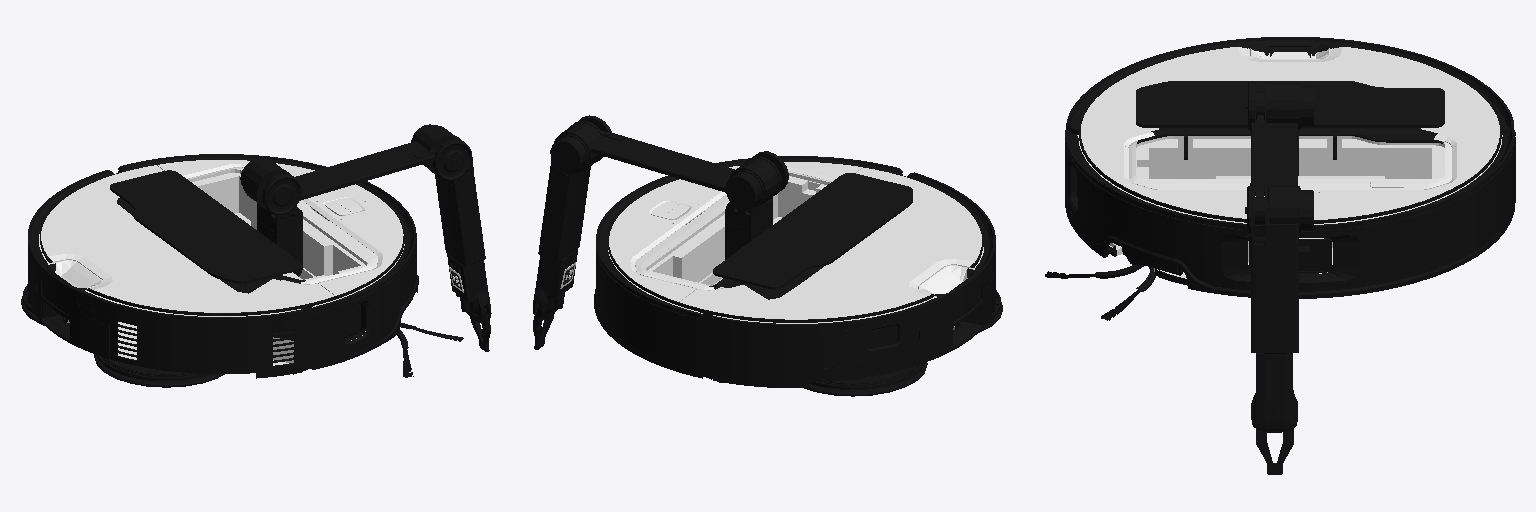
robot.urdf — z70:
<?xml version="1.0" ?>
<!-- =================================================================================== -->
<!-- |    This document was autogenerated by xacro from /Users/mpentax/Code/RRsZ70_ROS2/install/z70_description/share/z70_description/urdf/z70.urdf.xacro | -->
<!-- |    EDITING THIS FILE BY HAND IS NOT RECOMMENDED                                 | -->
<!-- =================================================================================== -->
<!--
  Roborock Saros Z70 - kinematic description.
  PROVISIONAL shared geometry: config/mount_calibration.yaml, 20261015.
  L2=0.205 and the vendor shoulder reference define a coordinate gauge, NOT measured wrist anatomy.
  M4 zero/physical L2 remain confounded with unknown marker mounts. Firmware FK stays in arm_model.py.
  Display assembly length follows rough owner tape; internal wrist/finger split and M6 remain provisional.
  M5 stays at the nominal gauge station; rolling visuals are translated back along the same x axis.

  URDF joint values (radians) from app angles (degrees), computed in z70_bridge:
    m3_joint = rad(M3 - 270)      link1 absolute app angle = 270 - M3 (from +x toward up)
    m4_joint = rad(180 - M4)      link2 relative to link1 = M4 - 180
    m5_joint = -rad(M5), axis -x  => physical positive roll (live 20261014T144906Z)
    m6 drive = rad(M6)/2; photo-estimated articulation mimics this with multiplier
    2*opening_ratio (pincher_geometry.yaml); nominal0 closed/90 open, not feedback.
-->
<robot name="z70">
  <material name="body">
    <color rgba="0.96 0.96 0.96 1"/>
  </material>
  <material name="moving">
    <color rgba="0.12 0.12 0.12 1"/>
  </material>
  <material name="arm">
    <color rgba="0.2 0.2 0.2 1"/>
  </material>
  <material name="cam">
    <color rgba="0.1 0.4 0.9 1"/>
  </material>
  <material name="pincher_shell">
    <color rgba="0.10 0.105 0.115 1"/>
  </material>
  <material name="pincher_glass">
    <color rgba="0.025 0.03 0.035 1"/>
  </material>
  <material name="pincher_hardware">
    <color rgba="0.62 0.58 0.50 1"/>
  </material>
  <material name="pincher_collar">
    <color rgba="0.42 0.42 0.44 1"/>
  </material>
  <material name="pincher_bowl">
    <color rgba="0.12 0.12 0.13 1"/>
  </material>
  <material name="pincher_rib">
    <color rgba="0.34 0.34 0.36 1"/>
  </material>
  <material name="marker_white">
    <color rgba="0.96 0.96 0.96 1"/>
  </material>
  <link name="base_footprint"/>
  <link name="base_link">
    <visual>
      <geometry>
        <mesh filename="package://z70_description/meshes/cad/cad_body.stl"/>
      </geometry>
      <material name="body"/>
    </visual>
    <visual>
      <geometry>
        <mesh filename="package://z70_description/meshes/cad/cad_wheels.stl"/>
      </geometry>
      <material name="moving"/>
    </visual>
    <visual>
      <geometry>
        <mesh filename="package://z70_description/meshes/cad/cad_mops.stl"/>
      </geometry>
      <material name="moving"/>
    </visual>
    <visual>
      <geometry>
        <mesh filename="package://z70_description/meshes/cad/cad_spinners.stl"/>
      </geometry>
      <material name="moving"/>
    </visual>
    <visual>
      <geometry>
        <mesh filename="package://z70_description/meshes/cad/cad_lenses.stl"/>
      </geometry>
      <material name="moving"/>
    </visual>
  </link>
  <joint name="base_joint" type="fixed">
    <parent link="base_footprint"/>
    <child link="base_link"/>
  </joint>
  <!-- front RGB camera -->
  <link name="camera_link">
    <visual>
      <geometry>
        <box size="0.01 0.03 0.015"/>
      </geometry>
      <material name="moving"/>
    </visual>
  </link>
  <joint name="camera_joint" type="fixed">
    <parent link="base_link"/>
    <child link="camera_link"/>
    <!-- New-run floor normal; roll is required for projector/optical-TF agreement. -->
    <origin rpy="-0.007257016757390962 -0.02371494019965833 0" xyz="0.275 0 0.058233433935542395"/>
  </joint>
  <link name="camera_optical_frame"/>
  <joint name="camera_optical_joint" type="fixed">
    <parent link="camera_link"/>
    <child link="camera_optical_frame"/>
    <origin rpy="-1.5707963267948966 0 -1.5707963267948966"/>
  </joint>
  <link name="bumper_front">
    <visual>
      <geometry>
        <mesh filename="package://z70_description/meshes/cad/cad_bumper_front.stl"/>
      </geometry>
      <material name="moving"/>
    </visual>
  </link>
  <joint name="bumper_front_mount" type="fixed">
    <parent link="base_link"/>
    <child link="bumper_front"/>
  </joint>
  <link name="bumper_rear">
    <visual>
      <geometry>
        <mesh filename="package://z70_description/meshes/cad/cad_bumper_rear.stl"/>
      </geometry>
      <material name="moving"/>
    </visual>
  </link>
  <joint name="bumper_rear_mount" type="fixed">
    <parent link="base_link"/>
    <child link="bumper_rear"/>
  </joint>
  <link name="arm_lid_base">
    <visual>
      <geometry>
        <mesh filename="package://z70_description/meshes/cad/cad_lid_base.stl"/>
      </geometry>
      <material name="moving"/>
    </visual>
  </link>
  <joint name="arm_lid_base_mount" type="fixed">
    <parent link="base_link"/>
    <child link="arm_lid_base"/>
  </joint>
  <link name="arm_compartment_lid">
    <visual>
      <geometry>
        <mesh filename="package://z70_description/meshes/cad/cad_lid.stl"/>
      </geometry>
      <material name="moving"/>
    </visual>
  </link>
  <joint name="arm_lid" type="revolute">
    <parent link="base_link"/>
    <child link="arm_compartment_lid"/>
    <origin xyz="0.0348 0 0.0966"/>
    <axis xyz="0 1 0"/>
    <limit effort="1" lower="-1.2" upper="0" velocity="1"/>
  </joint>
  <!-- Lift brings the shoulder up from the side. Yaw then turns the raised arm from sideways to forward. -->
  <link name="shoulder_lift_link"/>
  <link name="shoulder_yaw_link">
    <visual>
      <geometry>
        <mesh filename="package://z70_description/meshes/cad/cad_shoulder_mount.stl"/>
      </geometry>
      <material name="moving"/>
    </visual>
  </link>
  <link name="arm_shoulder_link"/>
  <link name="arm_vendor_frame"/>
  <joint name="arm_mount" type="fixed">
    <parent link="base_footprint"/>
    <child link="arm_vendor_frame"/>
    <origin rpy="0 0 -0.0022922989427041425" xyz="0.10101740063232861 0.0006254253508872214 -0.013569708475697051"/>
  </joint>
  <joint name="shoulder_lift" type="revolute">
    <parent link="arm_vendor_frame"/>
    <child link="shoulder_lift_link"/>
    <origin xyz="0.0377 -0.0177 0.0716"/>
    <axis xyz="-1 0 0"/>
    <limit effort="5" lower="0" upper="1.5707963267948966" velocity="1"/>
  </joint>
  <joint name="shoulder_yaw" type="revolute">
    <parent link="shoulder_lift_link"/>
    <child link="shoulder_yaw_link"/>
    <origin xyz="0.004210742863601513 0.005470614386068454 0.06856970847569707"/>
    <axis xyz="0 0 1"/>
    <limit effort="5" lower="-1.5707963267948966" upper="1.5707963267948966" velocity="1"/>
  </joint>
  <joint name="arm_shoulder_mount" type="fixed">
    <parent link="arm_vendor_frame"/>
    <child link="arm_shoulder_link"/>
    <!-- Yaw 0 is the straight unstow estimate, arm in the forward plane. -->
    <origin rpy="0 0 0" xyz="0.04191074286360151 -0.012229385613931547 0.14016970847569707"/>
  </joint>
  <link name="arm_link1">
    <visual>
      <geometry>
        <mesh filename="package://z70_description/meshes/cad/cad_link1.stl"/>
      </geometry>
      <material name="moving"/>
    </visual>
  </link>
  <joint name="m3_joint" type="revolute">
    <parent link="arm_shoulder_link"/>
    <child link="arm_link1"/>
    <origin rpy="0 0.039630310698817714 0"/>
    <axis xyz="0 1 0"/>
    <limit effort="5" lower="-3.141592653589793" upper="0" velocity="1"/>
  </joint>
  <link name="arm_link2">
    <visual>
      <geometry>
        <mesh filename="package://z70_description/meshes/cad/cad_link2.stl"/>
      </geometry>
      <material name="moving"/>
    </visual>
  </link>
  <joint name="m4_joint" type="revolute">
    <parent link="arm_link1"/>
    <child link="arm_link2"/>
    <origin rpy="0 -0.039630310698817714 0" xyz="0.1772 0 0"/>
    <axis xyz="0 1 0"/>
    <limit effort="5" lower="0.17453292519943295" upper="2.5307274153917776" velocity="1"/>
  </joint>
  <!-- Camera rolls with M5 (measured 20261014T144906Z); nominal L2 is only a gauge. -->
  <link name="gripper_camera_link">
    <!-- Small glass surface INSIDE the shared shell's real pocket. +X is view direction. -->
    <visual>
      <geometry>
        <mesh filename="package://z70_description/meshes/pincher_lens.stl"/>
      </geometry>
      <material name="moving"/>
    </visual>
  </link>
  <joint name="gripper_camera_mount" type="fixed">
    <parent link="arm_wrist_link"/>
    <child link="gripper_camera_link"/>
    <origin rpy="0.0 0.0 0.0" xyz="0.0355 0.0075 -0.0109"/>
  </joint>
  <link name="gripper_camera_optical_frame"/>
  <joint name="gripper_camera_optical_joint" type="fixed">
    <parent link="gripper_camera_link"/>
    <child link="gripper_camera_optical_frame"/>
    <origin rpy="-1.5707963267948966 0 -1.5707963267948966"/>
  </joint>
  <link name="arm_wrist_link">
    <!-- Broad upper face follows the wrist, not the marker-plane orientation.
         Small marker backing is local; cavity and hidden anatomy provisional. -->
    <visual>
      <geometry>
        <mesh filename="package://z70_description/meshes/cad/cad_hand.stl"/>
      </geometry>
      <material name="moving"/>
    </visual>
    <collision>
      <origin xyz="0.0138 0 -0.00175732744058"/>
      <geometry>
        <box size="0.067 0.032 0.0215146548812"/>
      </geometry>
    </collision>
  </link>
  <joint name="m5_joint" type="revolute">
    <parent link="arm_link2"/>
    <child link="arm_wrist_link"/>
    <origin xyz="0.1157 0 0"/>
    <axis xyz="-1 0 0"/>
    <limit effort="5" lower="-2.705260340591211" upper="0" velocity="1"/>
  </joint>
  <link name="m6_left_drive"/>
  <joint name="m6_left_joint" type="revolute">
    <parent link="arm_wrist_link"/>
    <child link="m6_left_drive"/>
    <axis xyz="0 0 1"/>
    <limit effort="1" lower="0" upper="0.7853981633974483" velocity="1"/>
  </joint>
  <link name="finger_left">
    <collision>
      <origin xyz="-0.00374 0 -1.08420217249e-19"/>
      <geometry>
        <box size="0.00748 0.0072 0.0036"/>
      </geometry>
    </collision>
    <collision>
      <origin xyz="0.00136 -0.001 0"/>
      <geometry>
        <box size="0.00272 0.008 0.003"/>
      </geometry>
    </collision>
    <collision>
      <origin xyz="0.00408 -0.003 -1.08420217249e-19"/>
      <geometry>
        <box size="0.00272 0.004 0.0022"/>
      </geometry>
    </collision>
    <collision>
      <origin xyz="0.01088 -0.003 -1.08420217249e-19"/>
      <geometry>
        <box size="0.01088 0.0034 0.002"/>
      </geometry>
    </collision>
    <collision>
      <origin xyz="0.01836 -0.0055 0"/>
      <geometry>
        <box size="0.00408 0.008 0.0018"/>
      </geometry>
    </collision>
    <collision>
      <origin xyz="0.02482 -0.0084 0"/>
      <geometry>
        <box size="0.00884 0.0038 0.0018"/>
      </geometry>
    </collision>
    <collision>
      <origin xyz="0.03162 -0.009 0"/>
      <geometry>
        <box size="0.00476 0.0026 0.0016"/>
      </geometry>
    </collision>
  </link>
  <joint name="finger_left_articulation" type="revolute">
    <parent link="arm_wrist_link"/>
    <child link="finger_left"/>
    <origin xyz="0.0343 0.018 0.0"/>
    <axis xyz="0 0 1"/>
    <limit effort="1" lower="0" upper="1.0471975511965976" velocity="1"/>
    <mimic joint="m6_left_joint" multiplier="1.3333333333333333" offset="0"/>
  </joint>
  <link name="m6_right_drive"/>
  <joint name="m6_right_joint" type="revolute">
    <parent link="arm_wrist_link"/>
    <child link="m6_right_drive"/>
    <axis xyz="0 0 -1"/>
    <limit effort="1" lower="0" upper="0.7853981633974483" velocity="1"/>
  </joint>
  <link name="finger_right">
    <collision>
      <origin xyz="-0.00374 0 -1.08420217249e-19"/>
      <geometry>
        <box size="0.00748 0.0072 0.0036"/>
      </geometry>
    </collision>
    <collision>
      <origin xyz="0.00136 0.001 0"/>
      <geometry>
        <box size="0.00272 0.008 0.003"/>
      </geometry>
    </collision>
    <collision>
      <origin xyz="0.00408 0.003 -1.08420217249e-19"/>
      <geometry>
        <box size="0.00272 0.004 0.0022"/>
      </geometry>
    </collision>
    <collision>
      <origin xyz="0.01088 0.003 -1.08420217249e-19"/>
      <geometry>
        <box size="0.01088 0.0034 0.002"/>
      </geometry>
    </collision>
    <collision>
      <origin xyz="0.01836 0.0055 0"/>
      <geometry>
        <box size="0.00408 0.008 0.0018"/>
      </geometry>
    </collision>
    <collision>
      <origin xyz="0.02482 0.0084 0"/>
      <geometry>
        <box size="0.00884 0.0038 0.0018"/>
      </geometry>
    </collision>
    <collision>
      <origin xyz="0.03162 0.009 0"/>
      <geometry>
        <box size="0.00476 0.0026 0.0016"/>
      </geometry>
    </collision>
  </link>
  <joint name="finger_right_articulation" type="revolute">
    <parent link="arm_wrist_link"/>
    <child link="finger_right"/>
    <origin xyz="0.0343 -0.018 0.0"/>
    <axis xyz="0 0 -1"/>
    <limit effort="1" lower="0" upper="1.0471975511965976" velocity="1"/>
    <mimic joint="m6_right_joint" multiplier="1.3333333333333333" offset="0"/>
  </joint>
  <link name="jaw_left">
    <visual>
      <geometry>
        <mesh filename="package://z70_description/meshes/cad/cad_jaw_left.stl"/>
      </geometry>
      <material name="moving"/>
    </visual>
  </link>
  <joint name="jaw_left" type="revolute">
    <parent link="arm_wrist_link"/>
    <child link="jaw_left"/>
    <origin xyz="0.0515 0.0106 0.0041"/>
    <axis xyz="0 0 1"/>
    <limit effort="1" lower="0" upper="1.0471975511965976" velocity="1"/>
    <mimic joint="m6_left_joint" multiplier="1.3333333333333333" offset="0"/>
  </joint>
  <link name="jaw_right">
    <visual>
      <geometry>
        <mesh filename="package://z70_description/meshes/cad/cad_jaw_right.stl"/>
      </geometry>
      <material name="moving"/>
    </visual>
  </link>
  <joint name="jaw_right" type="revolute">
    <parent link="arm_wrist_link"/>
    <child link="jaw_right"/>
    <origin xyz="0.0515 -0.0101 0.0041"/>
    <axis xyz="0 0 -1"/>
    <limit effort="1" lower="0" upper="1.0471975511965976" velocity="1"/>
    <mimic joint="m6_right_joint" multiplier="1.3333333333333333" offset="0"/>
  </joint>
  <!-- ID68 is on the underside of the pincher, not at the nominal wrist.
       Preserve all three measured rotation axes; only the black square must be planar.
       Paper thickness is illustrative and seated proud on the lower face of the CAD housing. -->
  <link name="pincher_marker_68">
    <visual>
      <origin xyz="0 0 -0.0001"/>
      <geometry>
        <box size="0.02 0.02 0.0003"/>
      </geometry>
      <material name="marker_white"/>
    </visual>
    <visual>
      <origin xyz="0 0 0.0002"/>
      <geometry>
        <box size="0.015 0.015 0.00015"/>
      </geometry>
      <material name="arm"/>
    </visual>
    <!-- DICT_4X4_1000 id 68 white modules, 15mm square, 6x6 including border. -->
    <visual>
      <origin xyz="-0.00375 0.00375 0.0004"/>
      <geometry>
        <box size="0.0025 0.0025 0.0006"/>
      </geometry>
      <material name="marker_white"/>
    </visual>
    <visual>
      <origin xyz="-0.00125 0.00125 0.0004"/>
      <geometry>
        <box size="0.0025 0.0025 0.0006"/>
      </geometry>
      <material name="marker_white"/>
    </visual>
    <visual>
      <origin xyz="0.00375 0.00125 0.0004"/>
      <geometry>
        <box size="0.0025 0.0025 0.0006"/>
      </geometry>
      <material name="marker_white"/>
    </visual>
    <visual>
      <origin xyz="-0.00375 -0.00125 0.0004"/>
      <geometry>
        <box size="0.0025 0.0025 0.0006"/>
      </geometry>
      <material name="marker_white"/>
    </visual>
    <visual>
      <origin xyz="0.00375 -0.00125 0.0004"/>
      <geometry>
        <box size="0.0025 0.0025 0.0006"/>
      </geometry>
      <material name="marker_white"/>
    </visual>
    <visual>
      <origin xyz="-0.00375 -0.00375 0.0004"/>
      <geometry>
        <box size="0.0025 0.0025 0.0006"/>
      </geometry>
      <material name="marker_white"/>
    </visual>
    <visual>
      <origin xyz="-0.00125 -0.00375 0.0004"/>
      <geometry>
        <box size="0.0025 0.0025 0.0006"/>
      </geometry>
      <material name="marker_white"/>
    </visual>
  </link>
  <joint name="pincher_marker_68_mount" type="fixed">
    <parent link="arm_wrist_link"/>
    <child link="pincher_marker_68"/>
    <origin rpy="3.141592653589793 0.0 1.5707963267948966" xyz="0.014 0.0 -0.0138"/>
  </joint>
  <link name="gripper_tcp"/>
  <joint name="tcp_joint" type="fixed">
    <parent link="arm_wrist_link"/>
    <child link="gripper_tcp"/>
    <!-- Provisional marker-relative terminal-region surrogate, not an exact pad/contact-seam midpoint; physical M5 station and pad anatomy remain unmeasured. -->
    <origin xyz="0.046797717832082 -0.0011288909068253214 0.019629324213822588"/>
  </joint>
</robot>

--- Render facts (derived) ---
The picture shows the robot from 3 angles, left to right: view 1: azimuth 30°, elevation 25°; view 2: azimuth 150°, elevation 25°; view 3: azimuth 270°, elevation 25°; orthographic projection.
Model z70 with 25 links and 24 joints (12 revolute, 12 fixed), rooted at base_footprint, posed all joints at 0 but 1 set to mid-range because 0 is outside their limits (m4_joint = 1.35).
Visible links, largest first — view 1: base_link, bumper_rear, arm_compartment_lid, bumper_front, arm_link2, shoulder_yaw_link, arm_link1, arm_wrist_link, arm_lid_base; view 2: base_link, bumper_rear, arm_compartment_lid, bumper_front, arm_link2, shoulder_yaw_link, arm_link1, arm_wrist_link, arm_lid_base; view 3: base_link, bumper_front, arm_compartment_lid, arm_link2, bumper_rear, arm_link1, arm_wrist_link, arm_lid_base, shoulder_yaw_link.
Link boxes in pixels (x1,y1,x2,y2): base_link: (21, 160, 463, 387); bumper_rear: (28, 165, 318, 378); arm_compartment_lid: (110, 170, 302, 283); bumper_front: (126, 154, 418, 368); arm_link2: (411, 124, 485, 266); shoulder_yaw_link: (240, 159, 302, 276); arm_link1: (295, 141, 436, 200); arm_wrist_link: (447, 254, 491, 322); arm_lid_base: (117, 198, 305, 293); base_link: (608, 162, 1002, 396); bumper_rear: (696, 167, 995, 387); arm_compartment_lid: (713, 173, 912, 289); bumper_front: (594, 156, 895, 376); arm_link2: (538, 115, 611, 261); shoulder_yaw_link: (725, 151, 788, 259); arm_link1: (590, 131, 734, 192); arm_wrist_link: (533, 249, 577, 319); arm_lid_base: (709, 265, 825, 299); base_link: (1045, 47, 1502, 320); bumper_front: (1065, 132, 1515, 298); arm_compartment_lid: (1136, 81, 1444, 127); arm_link2: (1245, 185, 1313, 353); bumper_rear: (1065, 37, 1514, 199); arm_link1: (1250, 92, 1297, 224); arm_wrist_link: (1251, 353, 1297, 432); arm_lid_base: (1137, 128, 1443, 159); shoulder_yaw_link: (1246, 81, 1313, 175).
Bounding box of the posed robot: 0.4427 × 0.3662 × 0.2331 m (x, y, z).
16 mesh visuals loaded from 16 distinct referenced files (16 binary STL).
